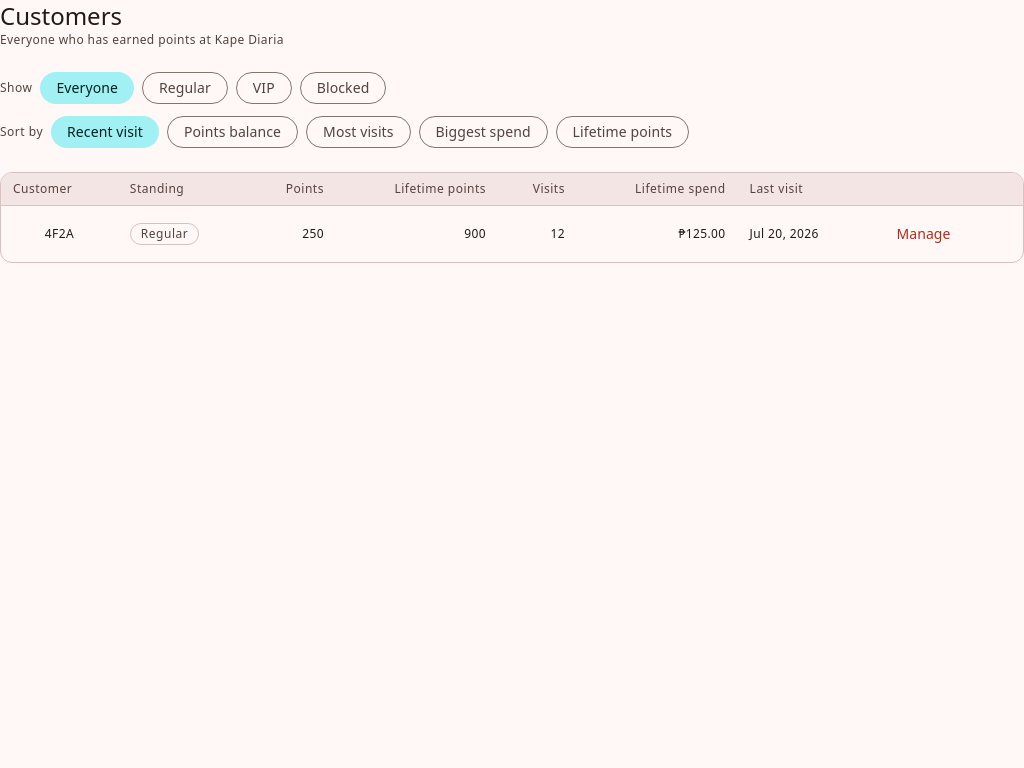
CustomersManager: the segment flow › cannot save a standing that is already the current one
Click the button "Manage" at (924, 234), box x1=880 y1=218 x2=967 y2=250
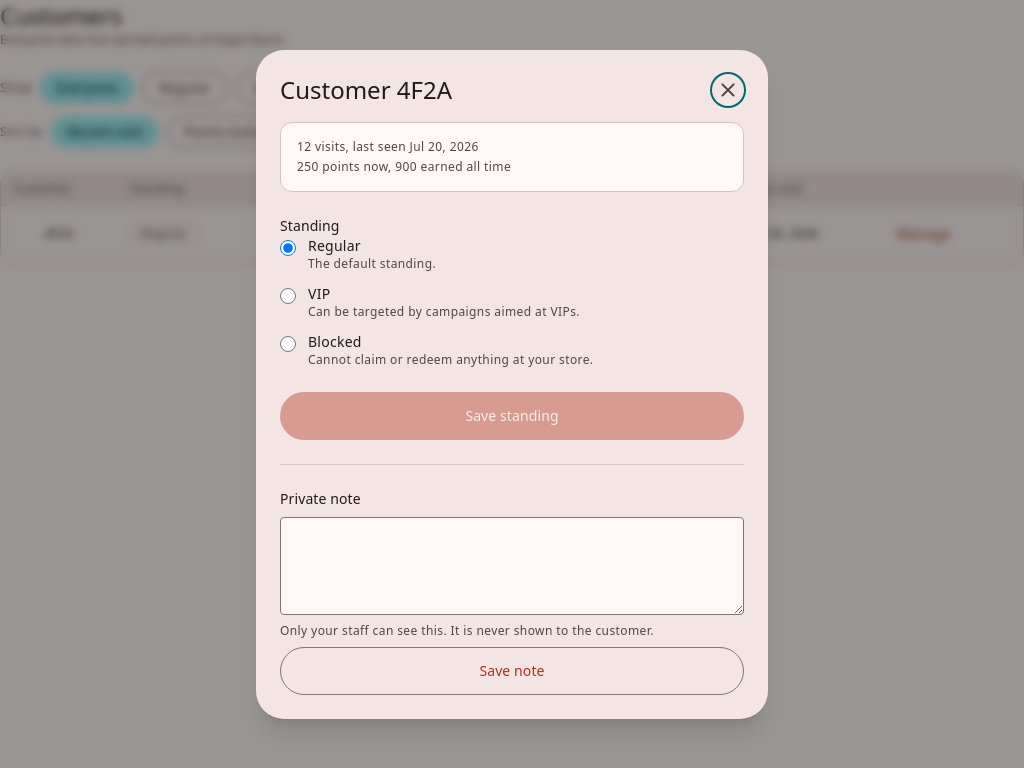
Now the button "Save standing" is disabled, box x1=280 y1=392 x2=744 y2=440
